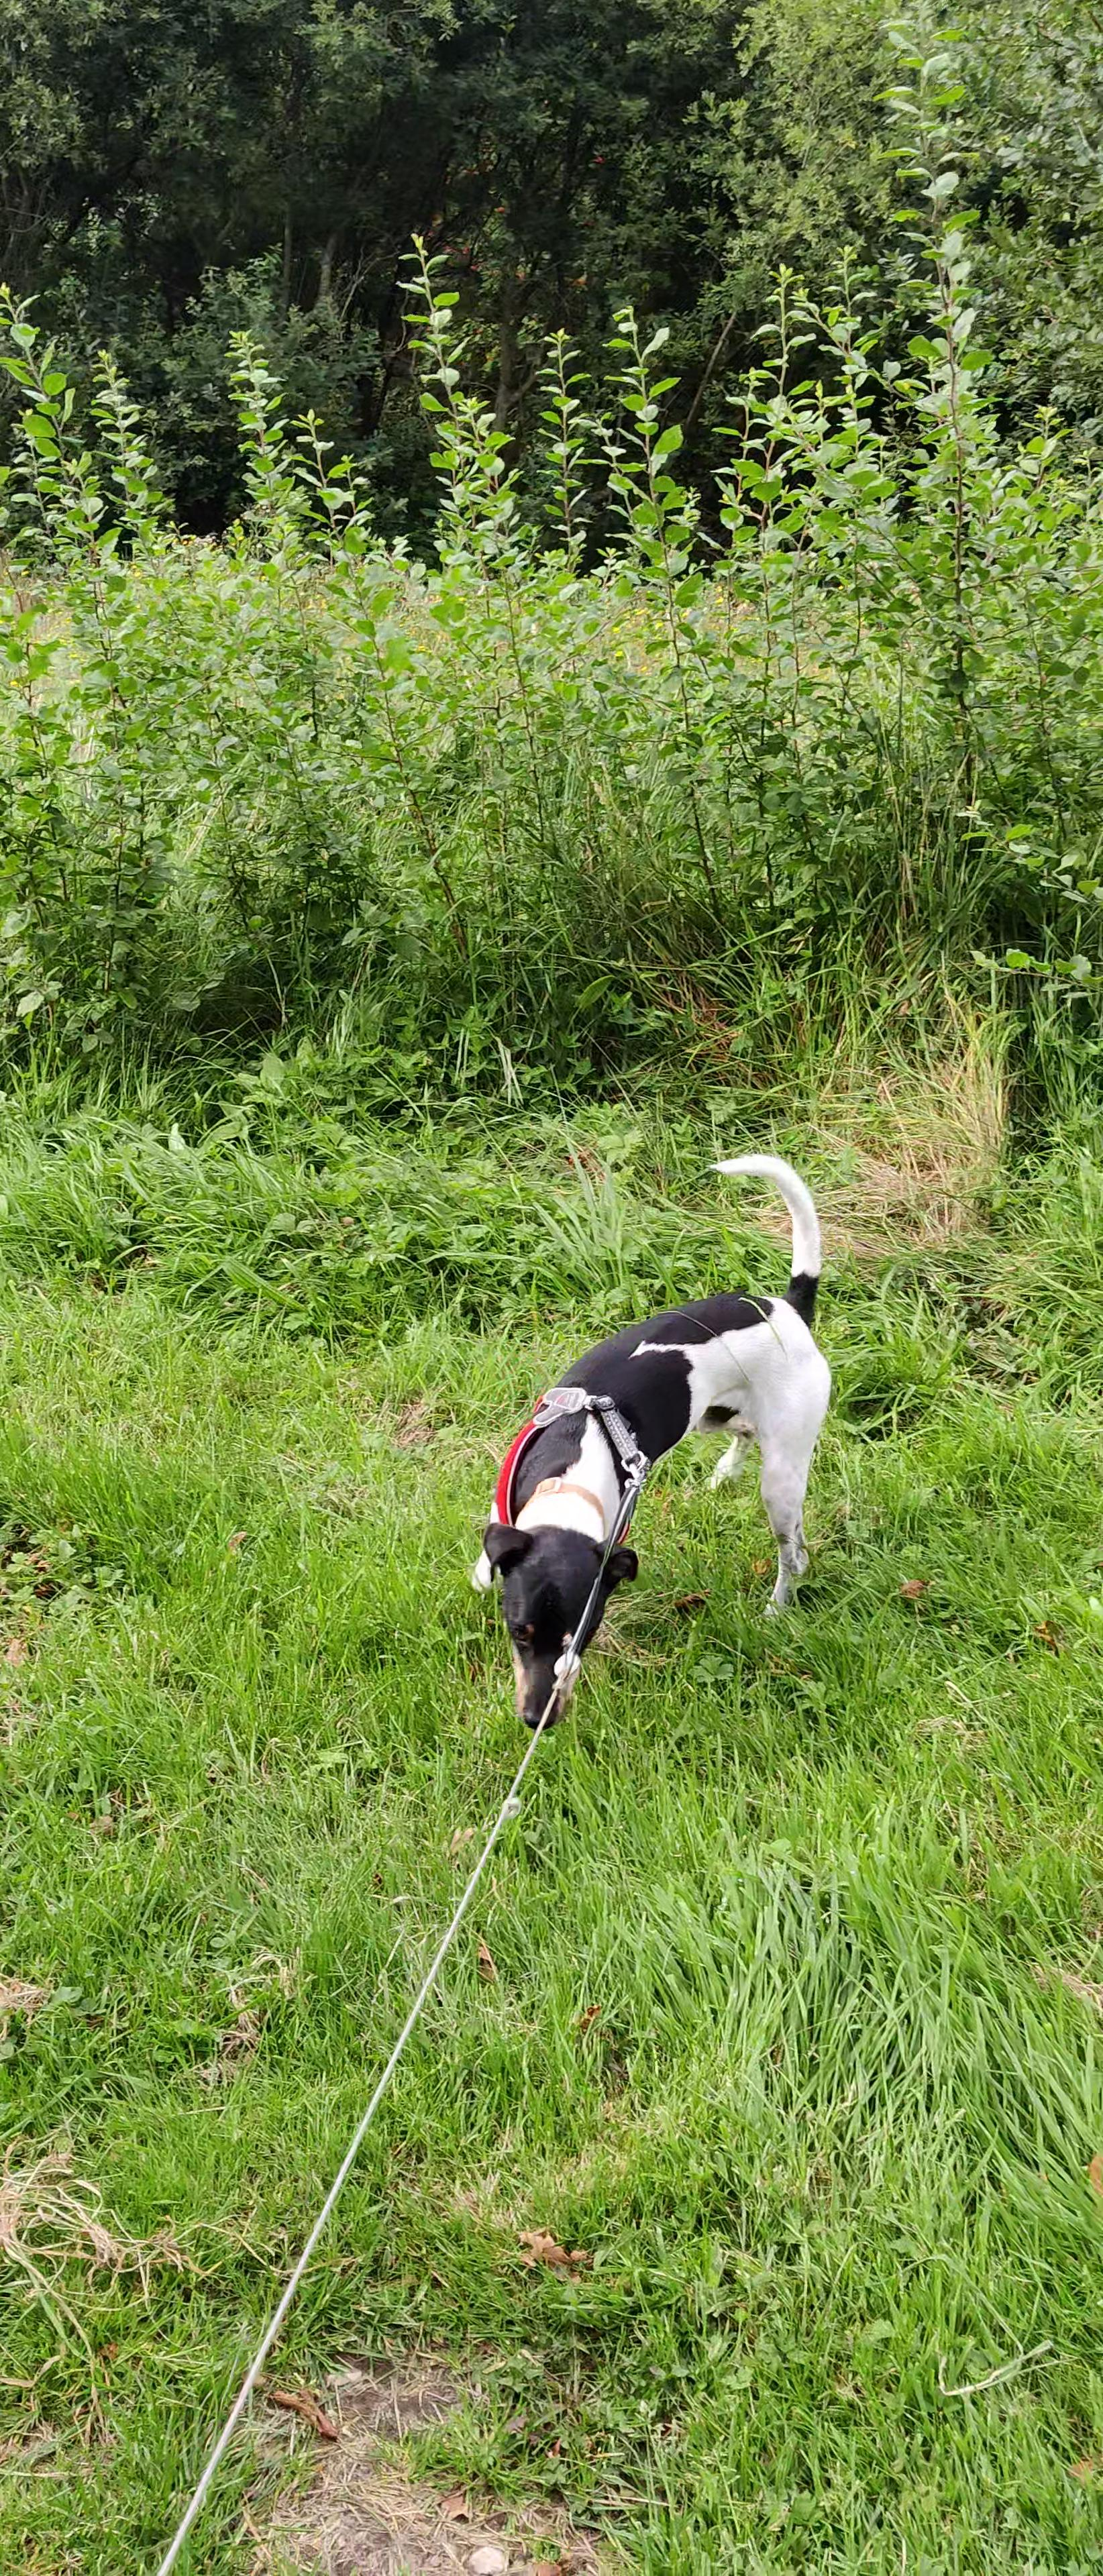Dog: (434, 1130, 858, 1751)
